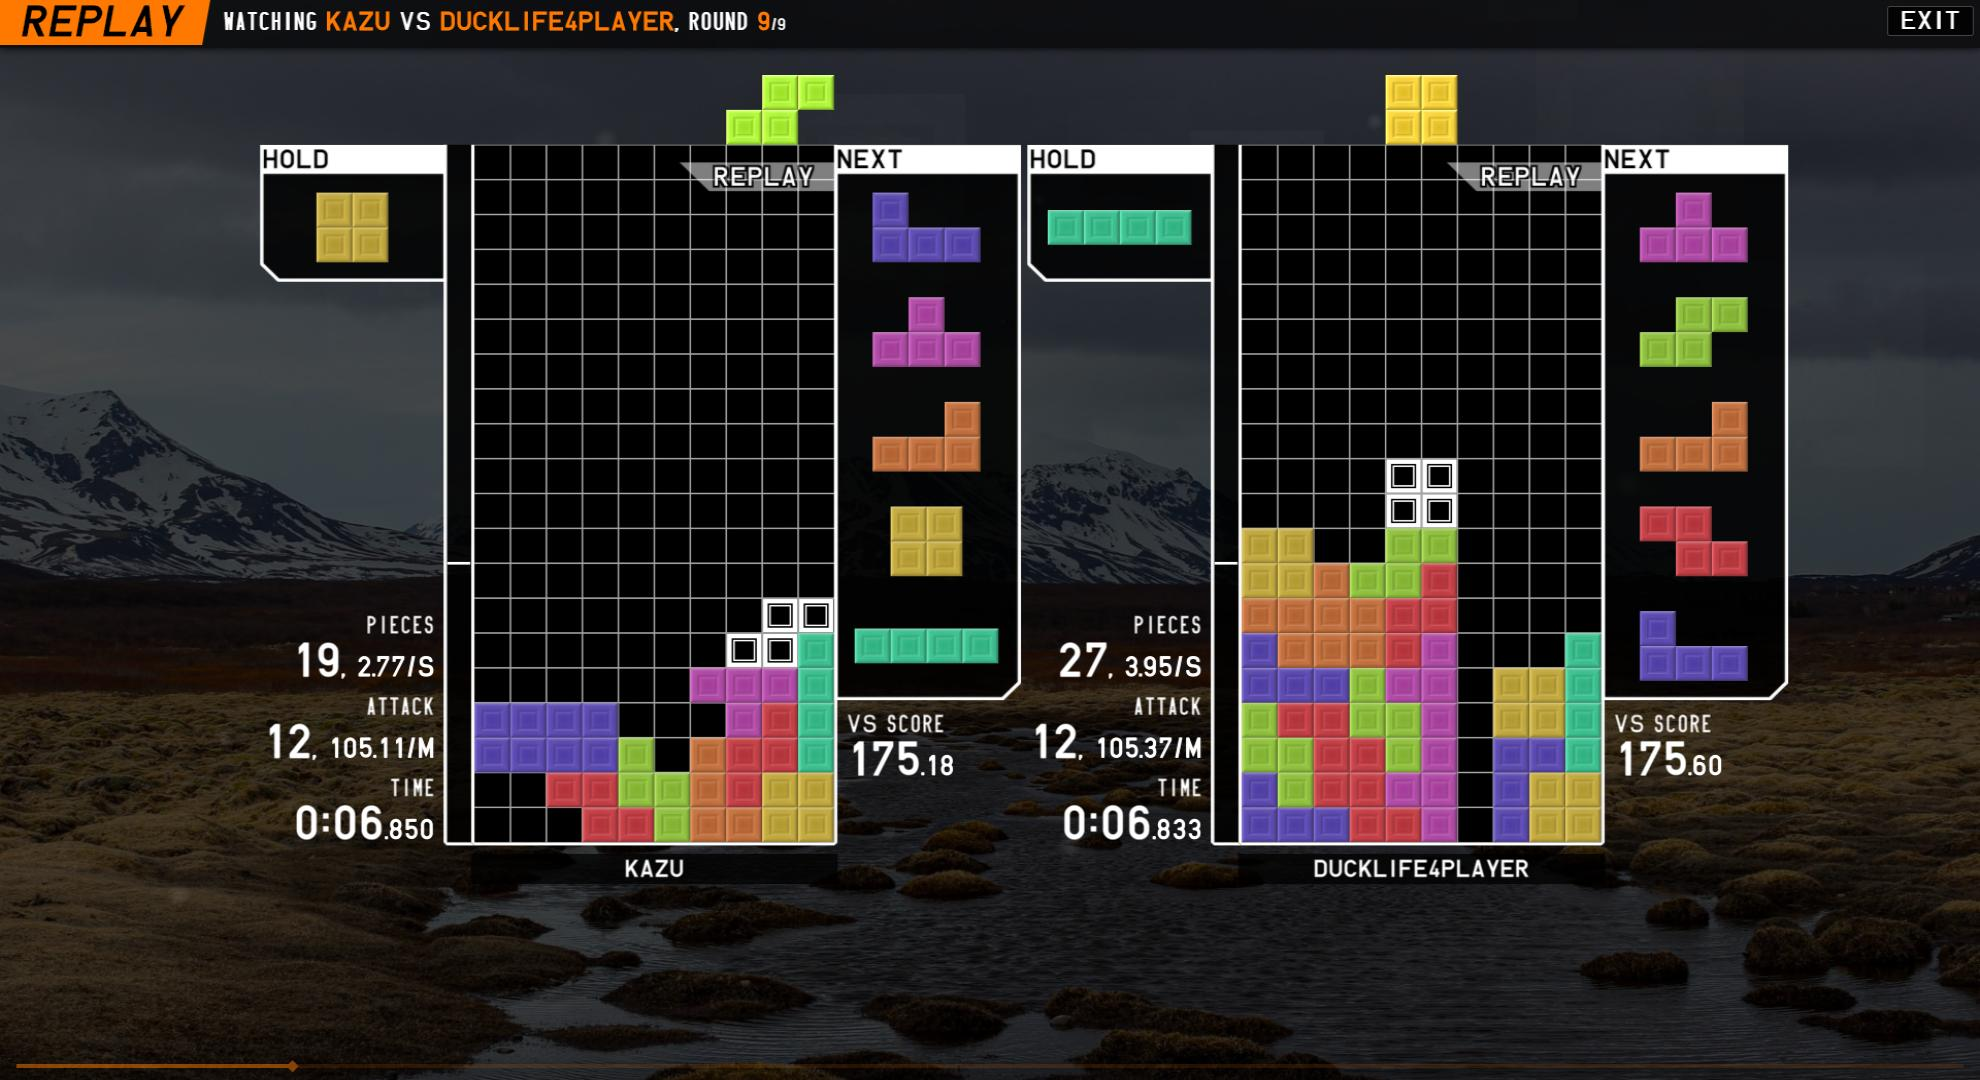tspin: (618, 669, 730, 777)
